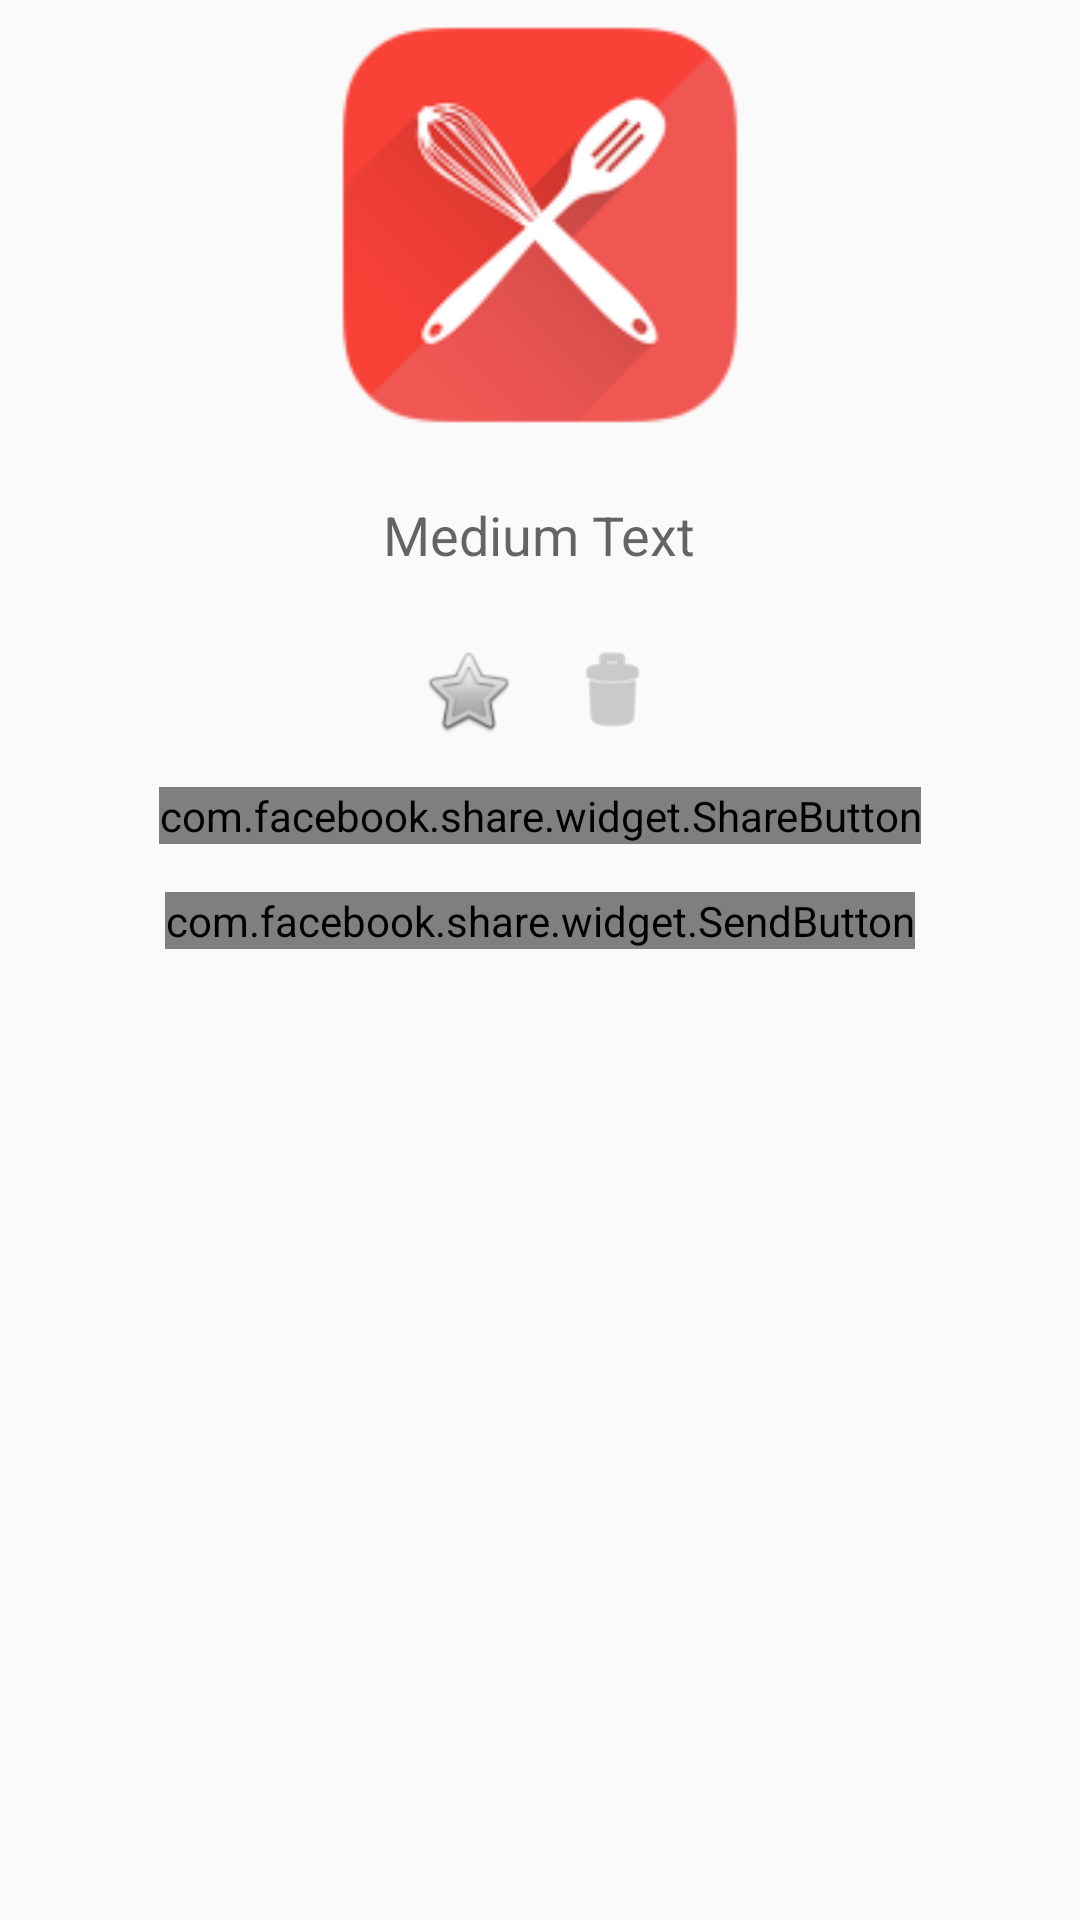

Icon click points for this 1080×1920 phone screenshot, format (x=x, y=y):
star off: (x=469, y=692)
